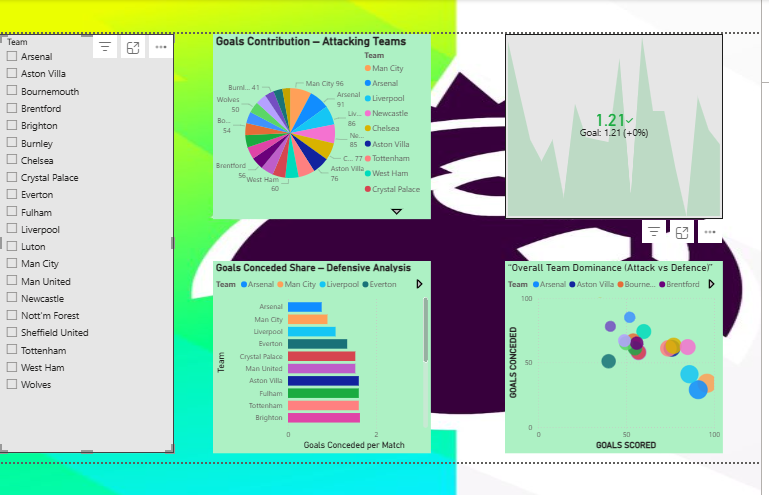

The dashboard page shown, as its layout file describes it:
{"tool":"powerbi","page":{"name":"Page 1","canvas":[1280,720],"ordinal":0},"visuals":[{"type":"slicer","fields":{"Values":["team_summary.Team"]},"box":[0,0,294,703.8],"z":0},{"type":"pieChart","title":"Goals Contribution – Attacking Teams","fields":{"Y":["Sum(team_summary.GoalsFor)"],"Category":["team_summary.Team"]},"box":[359.5,0,366.2,310.8],"z":1000},{"type":"barChart","title":"Goals Conceded Share – Defensive Analysis","fields":{"Category":["team_summary.Team"],"Y":["team_match_level.Goals Conceded per Match"],"Series":["team_summary.Team"]},"box":[359.5,381.3,366.2,322.5],"z":2000},{"type":"scatterChart","title":"“Overall Team Dominance (Attack vs Defence)”","fields":{"X":["team_summary.GoalsFor"],"Y":["team_summary.GoalsAgainst"],"Series":["team_summary.Team"],"Size":["Sum(team_match_level.Points)"]},"box":[850,381.3,366.2,322.5],"z":3000},{"type":"kpi","fields":{"Indicator":["Sum(team_summary.PointsPerMatch)"],"TrendLine":["team_summary.Team"],"Goal":["team_match_level.PPM"]},"box":[850,0,366.2,310.8],"z":4000}]}

Visuals, with their boxes in screenshot pixels (x1, y1, x2, y2):
slicer - team_summary.Team: 0 32 174 449
"Goals Contribution – Attacking Teams" pieChart: 213 32 430 216
"Goals Conceded Share – Defensive Analysis" barChart: 213 258 430 449
"“Overall Team Dominance (Attack vs Defence)”" scatterChart: 504 258 721 449
kpi - Sum(team_summary.PointsPerMatch) x team_summary.Team: 504 32 721 216
